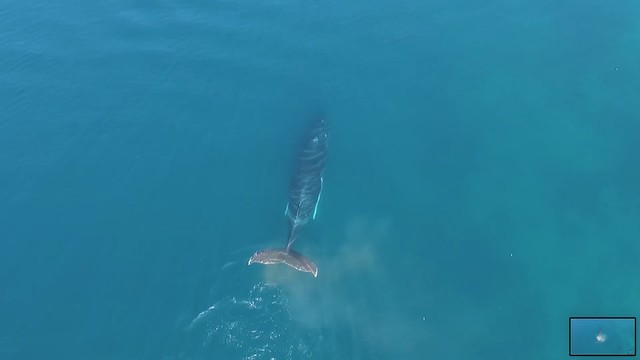whale: (240, 105, 343, 286)
